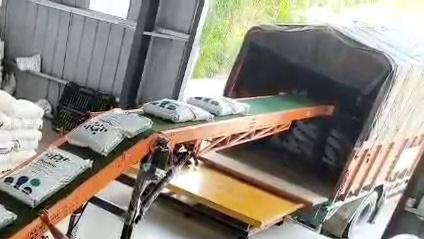box: (0, 149, 92, 208), (67, 112, 146, 156), (142, 99, 212, 122), (188, 96, 249, 116), (0, 206, 16, 228)
